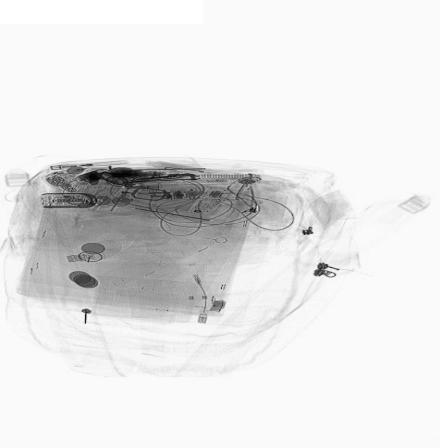Lighter: (47, 160, 134, 172)
